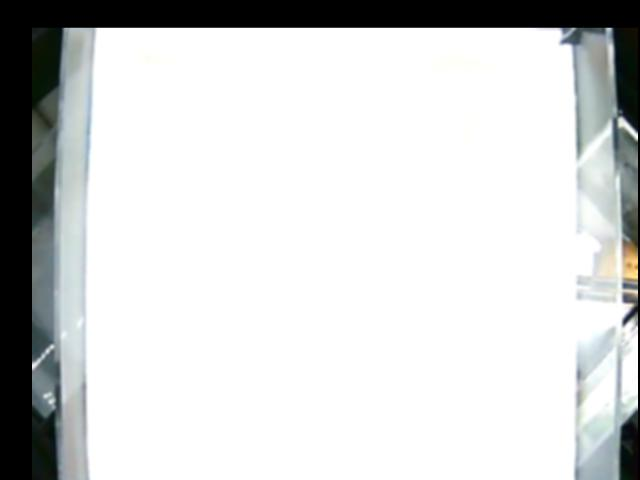Cup: (332, 65, 474, 217)
